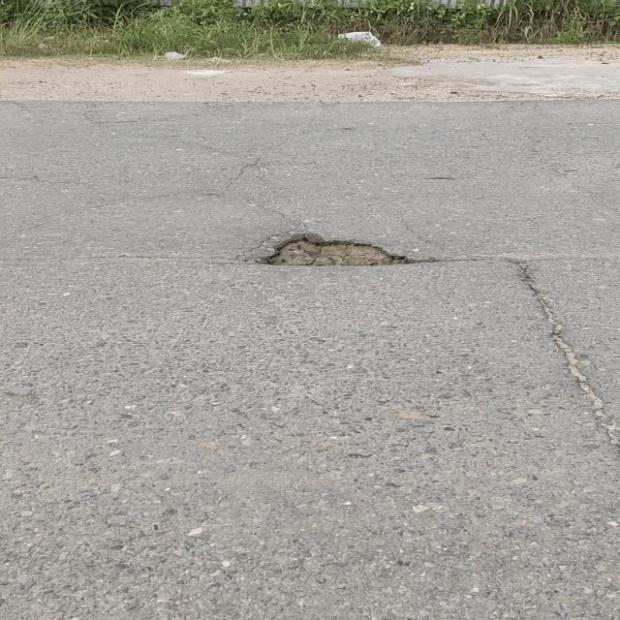lubang: (263, 232, 415, 265)
